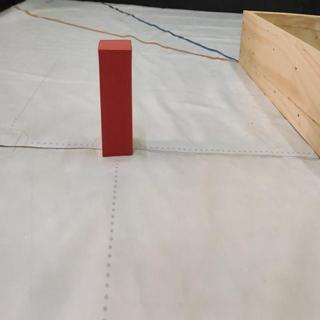redbox: (99, 38, 135, 158)
